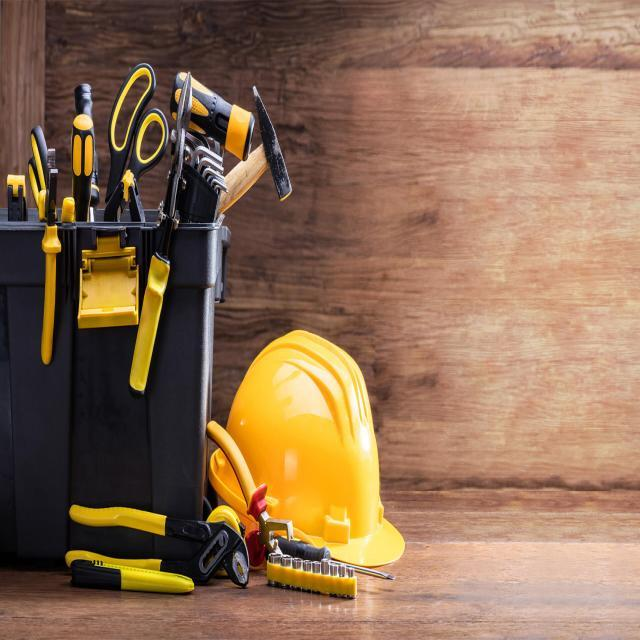screwdriver: (260, 528, 400, 586)
